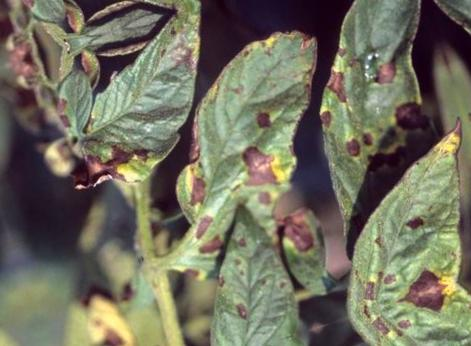Tomato Early blight leaf: (133, 41, 366, 269), (279, 0, 471, 230), (275, 132, 471, 327), (165, 192, 312, 346)
